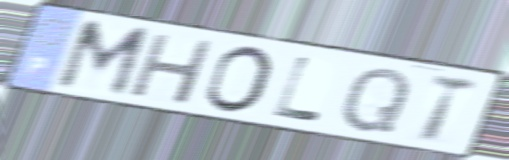H: (125, 30, 220, 107)
L: (269, 53, 325, 124)
M: (50, 17, 156, 101)
O: (198, 43, 276, 116)
Q: (338, 64, 414, 135)
T: (419, 71, 483, 146)
